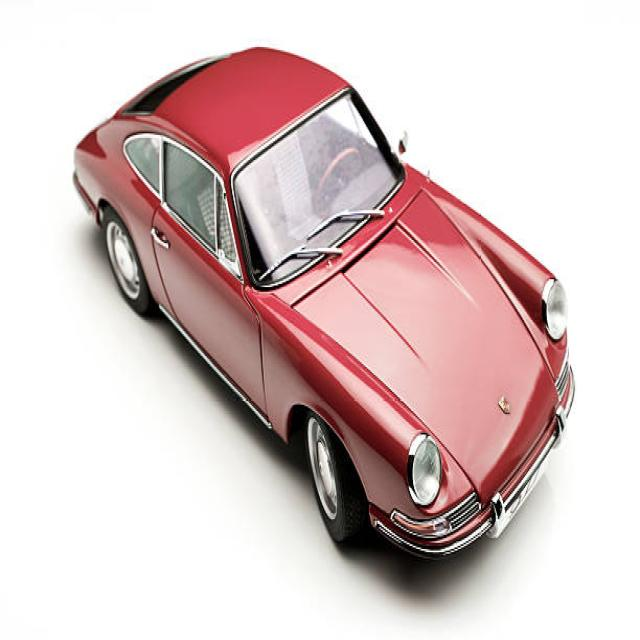Car: (71, 44, 575, 561)
